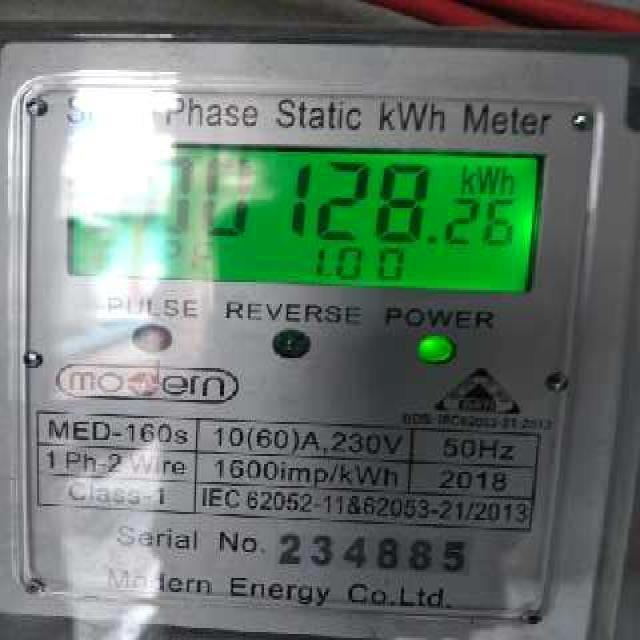LCD: (49, 130, 556, 303)
